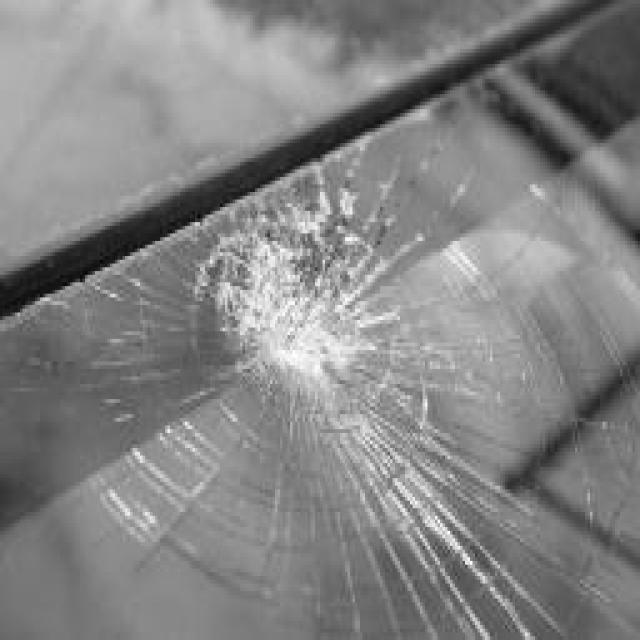Windshield: (0, 64, 640, 640)
